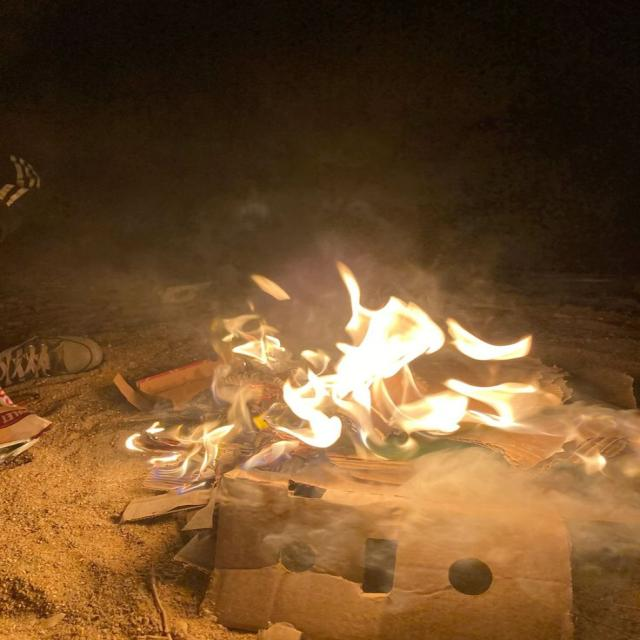fire: (256, 267, 527, 453)
